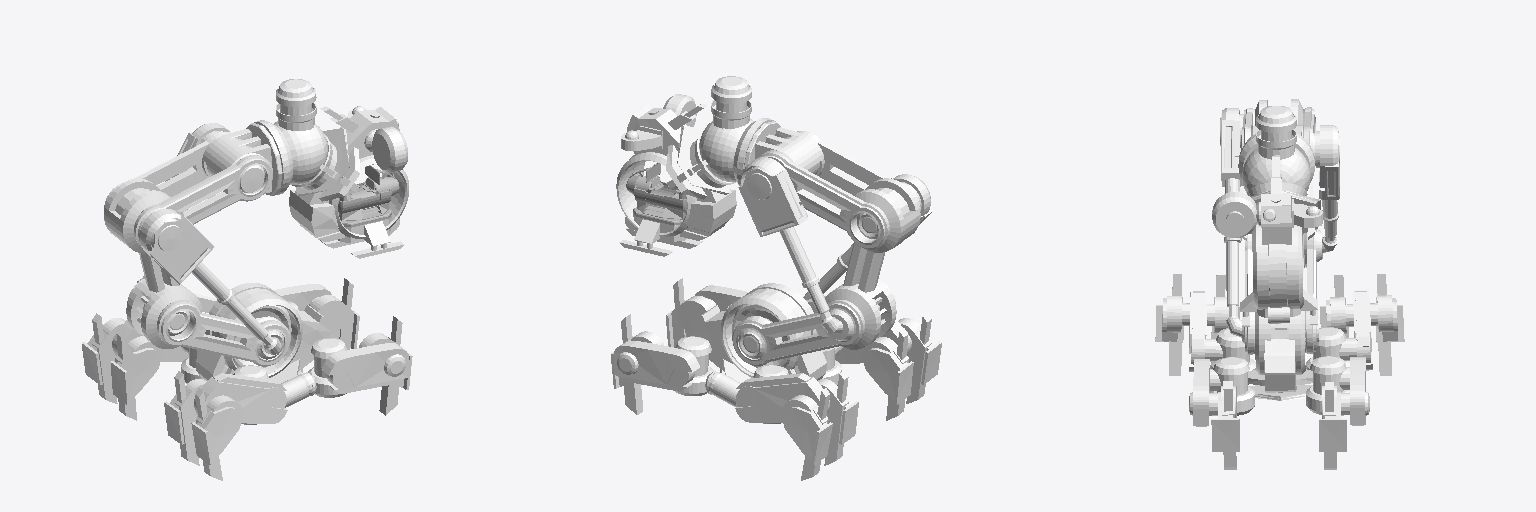
The model's file is mech_walker.obj.
The picture shows the model from 3 angles: view 1: azimuth 30°, elevation 25°; view 2: azimuth 150°, elevation 25°; view 3: azimuth 270°, elevation 25°; orthographic projection.
Visible parts, largest first — view 1: Neck_Mech._Neck_Mech.002, Walker_1.005, Neck_Mech_Walker, Neck_Mech.002, Neck_Mech.010_Neck_Mech.009, 1_Neck_Mech.007, Neck_Mech.013_Neck_Mech.006, Walker_Leg_5.001_Walker_Leg_5, Walker_and_Neck_Mech, Walker_Leg_5.003_Walker_1.003, Walker_Leg_2.004_Walker_Leg_2, Walker_Leg_2.002_Walker_Leg_2 (+26 smaller); view 2: Walker_1.005, Neck_Mech._Neck_Mech.002, Neck_Mech_Walker, Neck_Mech.002, Neck_Mech.012_Neck_Mech.009, 1_Neck_Mech.007, Neck_Mech.013_Neck_Mech.006, Walker_Leg_5, Walker_and_Neck_Mech, Walker_Leg_5.002_Walker_1.003, Walker_Leg_2.001_Walker_Leg_2, Walker_1.010_Walker_1 (+24 smaller); view 3: Walker_and_Neck_Mech, Walker_1, 1_Neck_Mech.007, Neck_Mech_Walker, Neck_Mech.002, Neck_Mech.012_Neck_Mech.009, Walker.018_Walker.012, Neck_Mech.010_Neck_Mech.009, Walker_1.010_Walker_1, Walker_Glas, Walker_Leg_5.001_Walker_Leg_5, Walker_Leg_L_F.001_Walker_Leg_2 (+20 smaller).
Boxes of the visible parts, x1=… form: Neck_Mech._Neck_Mech.002: x1=104, y1=132, x2=272, y2=245; Walker_1.005: x1=104, y1=178, x2=201, y2=348; Neck_Mech_Walker: x1=289, y1=107, x2=399, y2=241; Neck_Mech.002: x1=127, y1=279, x2=290, y2=366; Neck_Mech.010_Neck_Mech.009: x1=140, y1=209, x2=214, y2=284; 1_Neck_Mech.007: x1=254, y1=120, x2=327, y2=195; Neck_Mech.013_Neck_Mech.006: x1=202, y1=123, x2=282, y2=195; Walker_Leg_5.001_Walker_Leg_5: x1=321, y1=343, x2=408, y2=386; Walker_and_Neck_Mech: x1=195, y1=305, x2=334, y2=383; Walker_Leg_5.003_Walker_1.003: x1=194, y1=377, x2=287, y2=423; Walker_Leg_2.004_Walker_Leg_2: x1=191, y1=407, x2=240, y2=464; Walker_Leg_2.002_Walker_Leg_2: x1=111, y1=348, x2=159, y2=404; Walker_1.005: x1=825, y1=178, x2=920, y2=349; Neck_Mech._Neck_Mech.002: x1=753, y1=131, x2=920, y2=249; Neck_Mech_Walker: x1=627, y1=104, x2=736, y2=240; Neck_Mech.002: x1=732, y1=280, x2=895, y2=365; Neck_Mech.012_Neck_Mech.009: x1=738, y1=157, x2=807, y2=236; 1_Neck_Mech.007: x1=699, y1=118, x2=775, y2=185; Neck_Mech.013_Neck_Mech.006: x1=743, y1=121, x2=824, y2=175; Walker_Leg_5: x1=613, y1=340, x2=699, y2=384; Walker_and_Neck_Mech: x1=689, y1=305, x2=826, y2=382; Walker_Leg_5.002_Walker_1.003: x1=735, y1=377, x2=829, y2=422; Walker_Leg_2.001_Walker_Leg_2: x1=783, y1=407, x2=832, y2=464; Walker_1.010_Walker_1: x1=721, y1=283, x2=817, y2=377; Walker_and_Neck_Mech: x1=1248, y1=339, x2=1312, y2=400; Walker_1: x1=1252, y1=224, x2=1303, y2=309; 1_Neck_Mech.007: x1=1238, y1=134, x2=1314, y2=192; Neck_Mech_Walker: x1=1247, y1=182, x2=1320, y2=245; Neck_Mech.002: x1=1244, y1=229, x2=1316, y2=354; Neck_Mech.012_Neck_Mech.009: x1=1315, y1=125, x2=1339, y2=199; Walker.018_Walker.012: x1=1212, y1=192, x2=1260, y2=237; Neck_Mech.010_Neck_Mech.009: x1=1220, y1=108, x2=1243, y2=186; Walker_1.010_Walker_1: x1=1255, y1=311, x2=1305, y2=374; Walker_Glas: x1=1269, y1=244, x2=1287, y2=307; Walker_Leg_5.001_Walker_Leg_5: x1=1193, y1=359, x2=1209, y2=425; Walker_Leg_L_F.001_Walker_Leg_2: x1=1319, y1=391, x2=1346, y2=451.
Size of the model in its own units: 6.34 by 6.96 by 4.79.